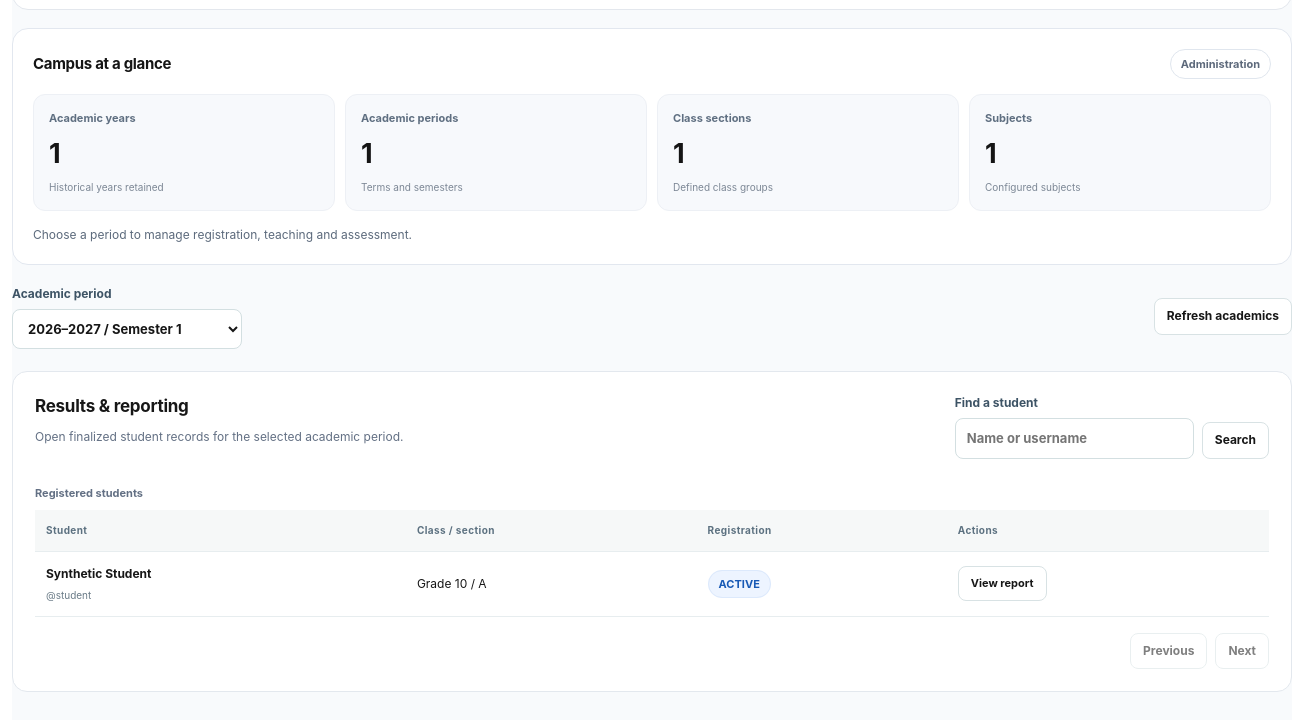
it: Grade School academic workspace › opens finalized Grade School reports from a dedicated admin module without registration controls
(page scrolled)
expect the heading "Results & reporting" is shown: met, box [35, 396, 189, 416]
Click the button "View report" at (1002, 584), box [958, 566, 1046, 601]
(page scrolled)
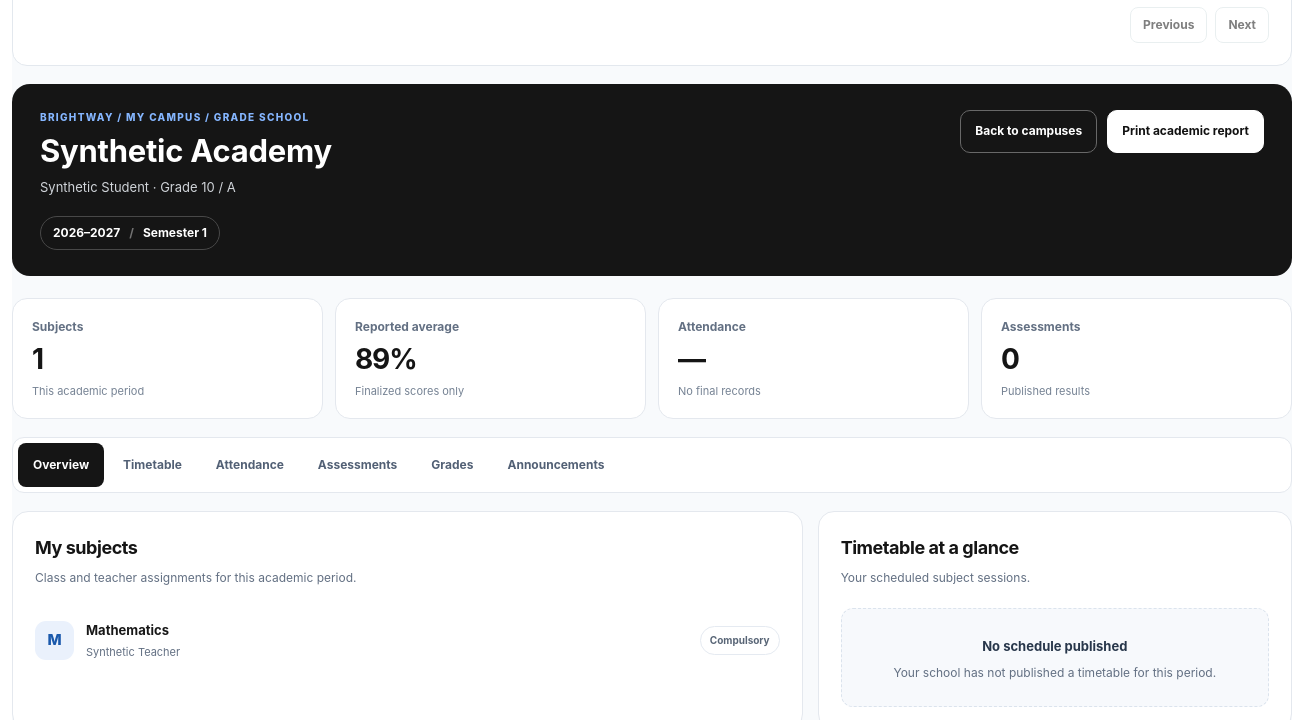
expect the text "89%" is shown: met, box [355, 342, 416, 376]
